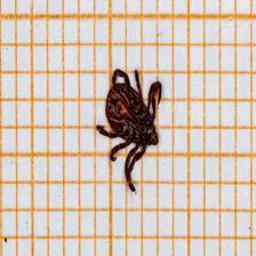Rhipicephalus sanguineus: (96, 68, 163, 194)
